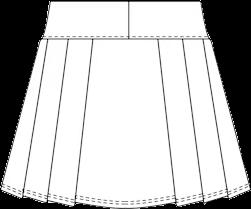Hemline: (0, 187, 250, 208)
Waistline: (41, 36, 210, 40), (50, 0, 201, 3)
